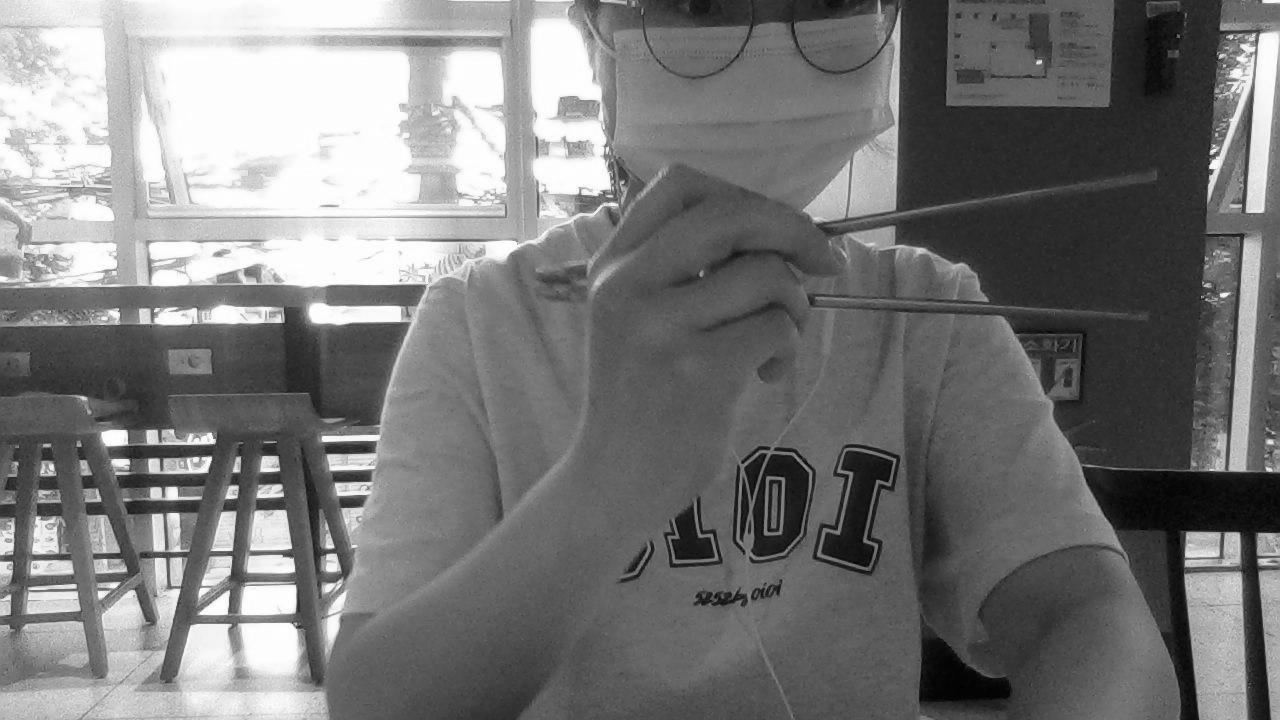chopstick: (530, 166, 1164, 282), (531, 276, 1152, 326)
hand: (578, 166, 848, 508)
